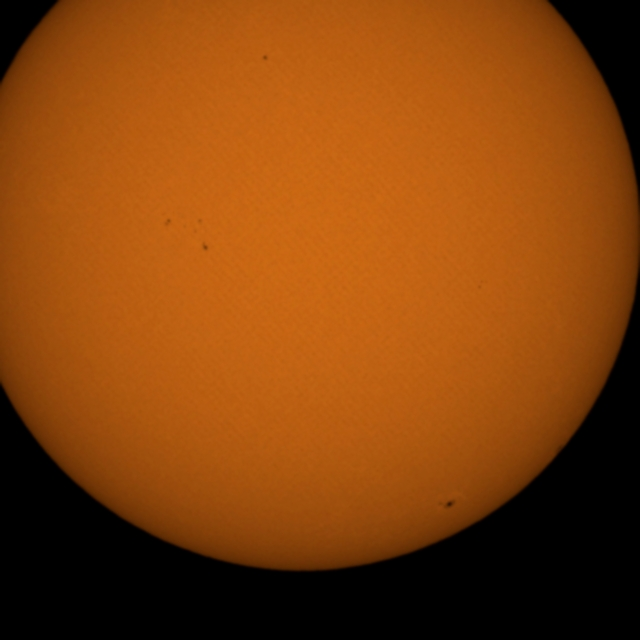sunspot: (178, 217, 206, 236), (437, 498, 457, 510), (476, 278, 488, 292), (163, 217, 173, 229), (201, 241, 210, 253), (261, 53, 269, 62)
